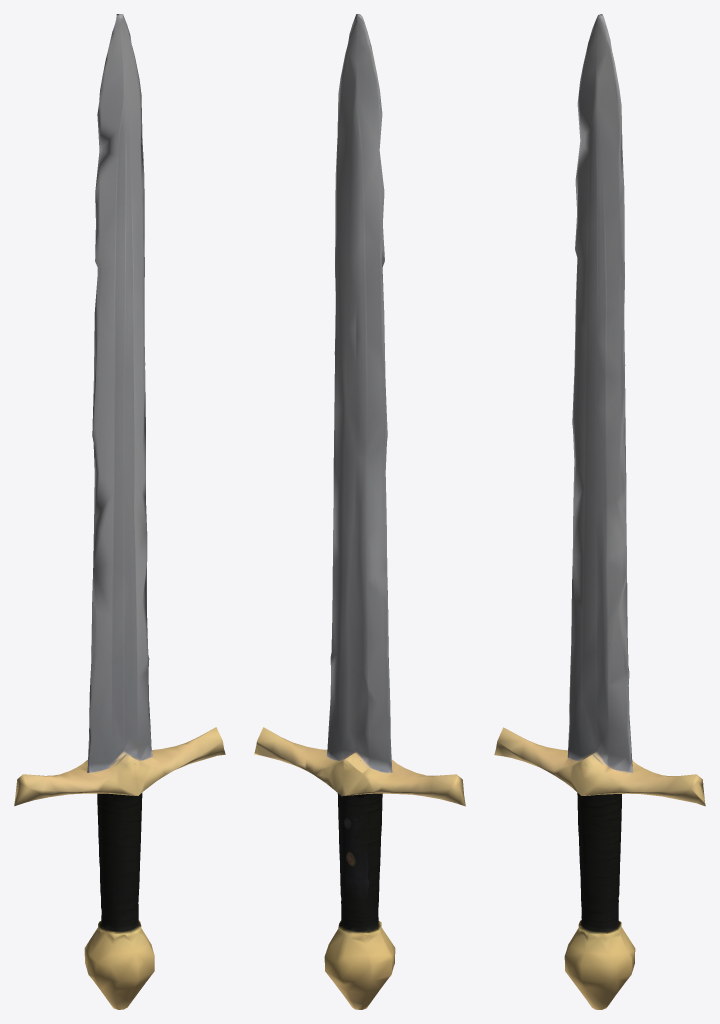
Rendered from sword_3d_medieval.glb.
The picture shows the model from 3 angles, left to right: view 1: azimuth 30°, elevation 25°; view 2: azimuth 150°, elevation 25°; view 3: azimuth 330°, elevation 25°; orthographic projection.
Visible parts, largest first — view 1: tripo_node_56484376-3d49-47c6-a57a-af6bb7fd3881; view 2: tripo_node_56484376-3d49-47c6-a57a-af6bb7fd3881; view 3: tripo_node_56484376-3d49-47c6-a57a-af6bb7fd3881.
Part boxes in pixels (<box>): tripo_node_56484376-3d49-47c6-a57a-af6bb7fd3881: <box>14,14,225,1009</box>; tripo_node_56484376-3d49-47c6-a57a-af6bb7fd3881: <box>254,14,465,1009</box>; tripo_node_56484376-3d49-47c6-a57a-af6bb7fd3881: <box>494,14,705,1009</box>.
Size of the model in its own units: 0.2232 by 0.9993 by 0.0685.
1 material, 1 textured.
